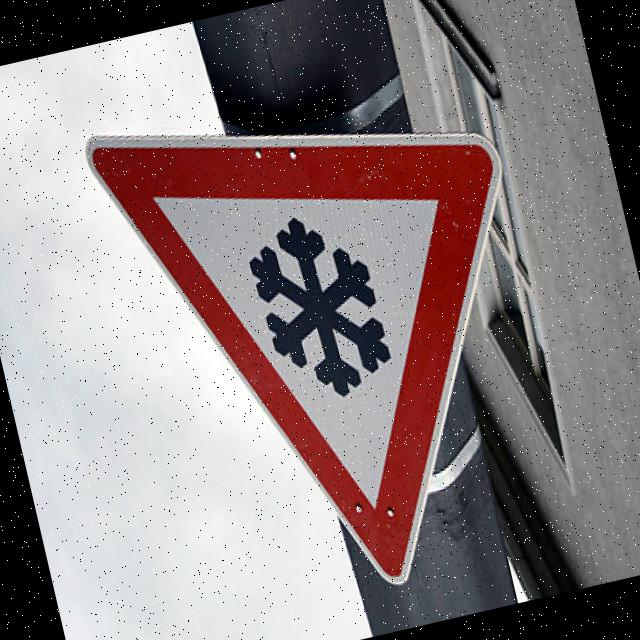snow_warning: (70, 25, 619, 640)
